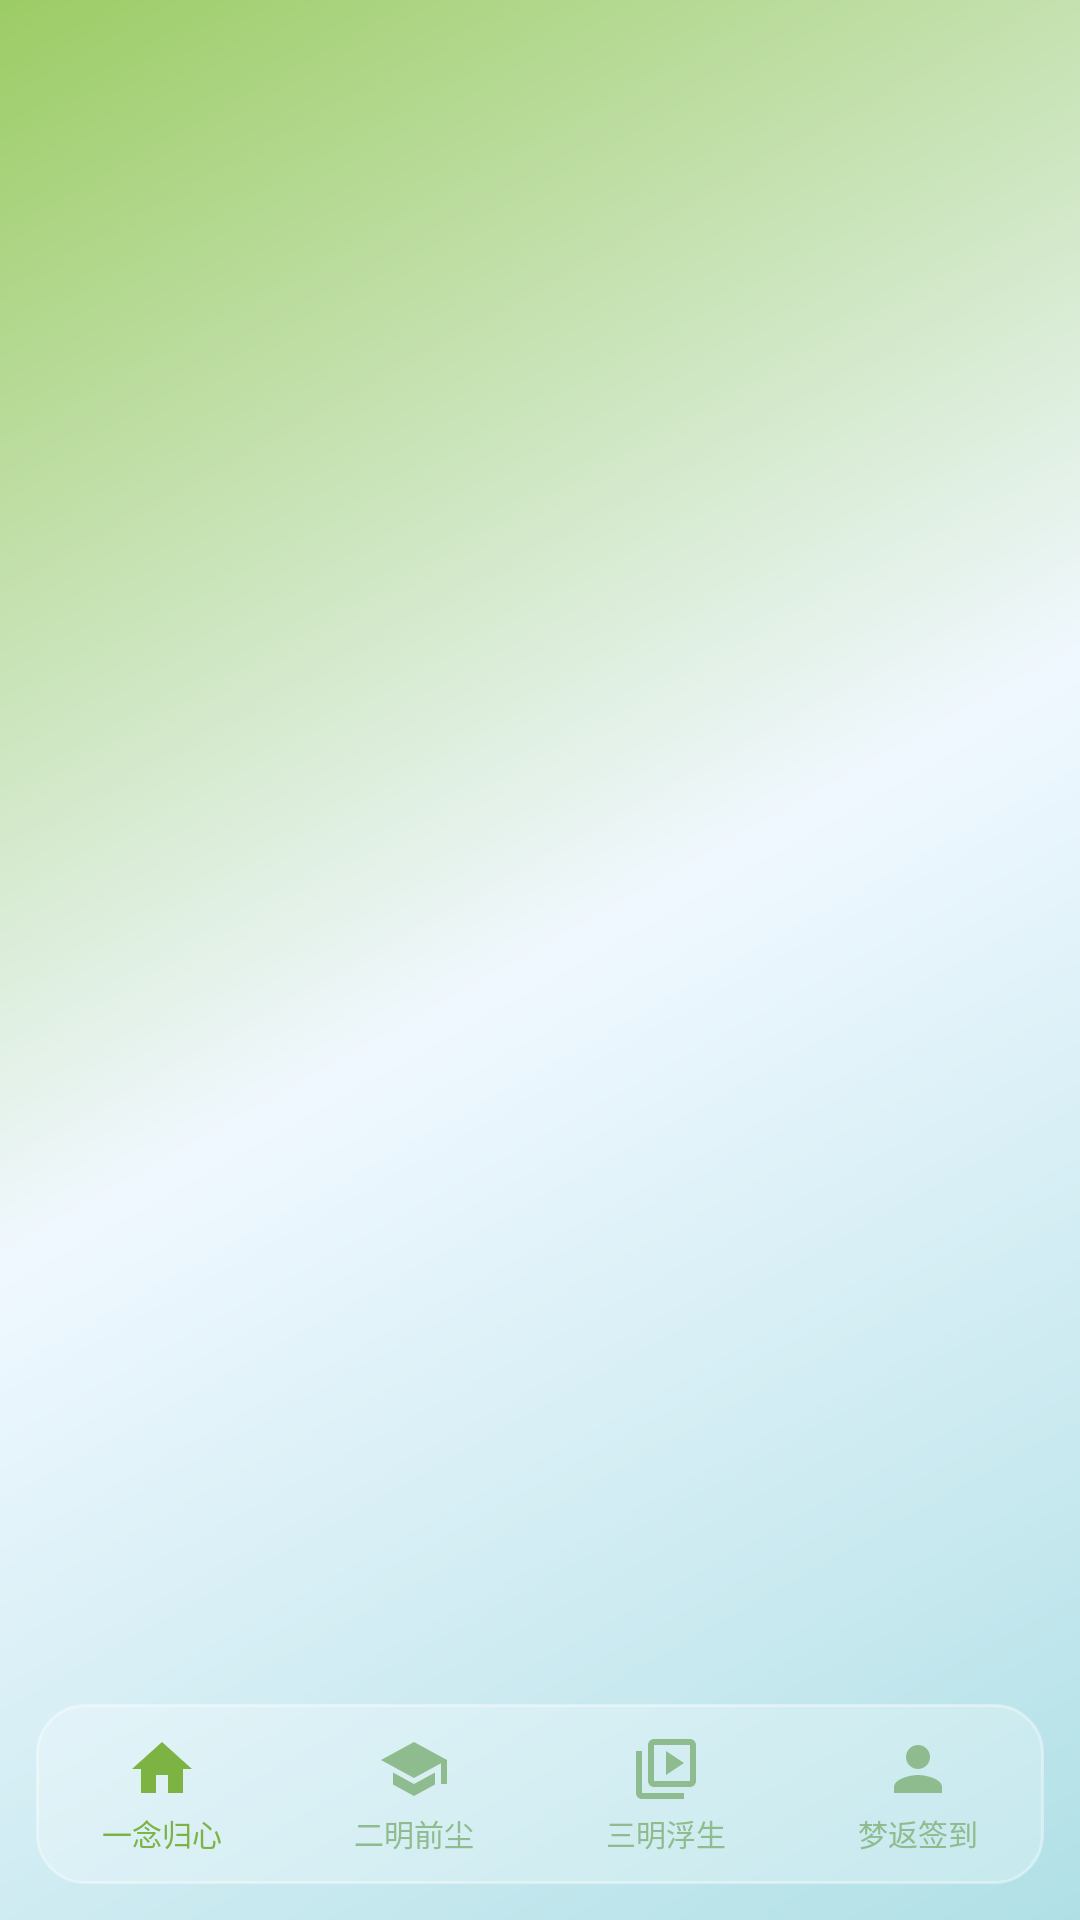

Icons on this 1080w x 1920h Android screen, each with its box as (x1, y1, x2, y2):
education: (381, 1742, 447, 1796)
home: (132, 1742, 192, 1793)
user: (894, 1745, 942, 1793)
video: (636, 1739, 696, 1799)
